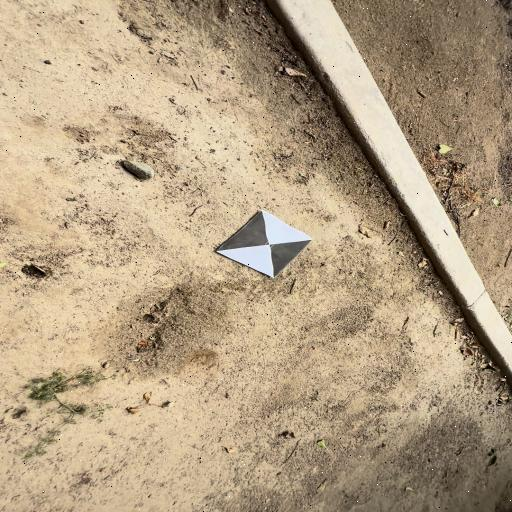target: (216, 210, 312, 277)
